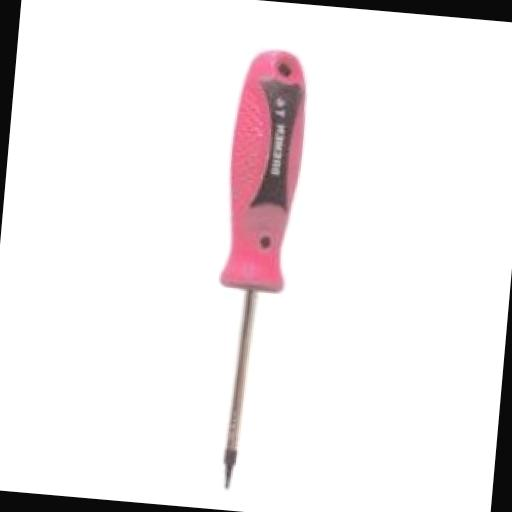screwdriver: (200, 46, 312, 492)
